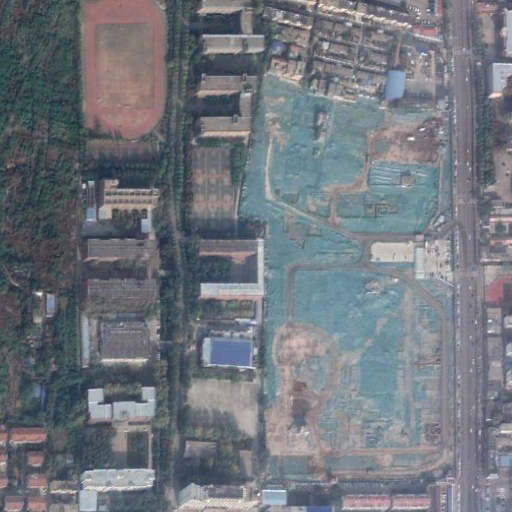cw: (241, 70, 462, 478)
